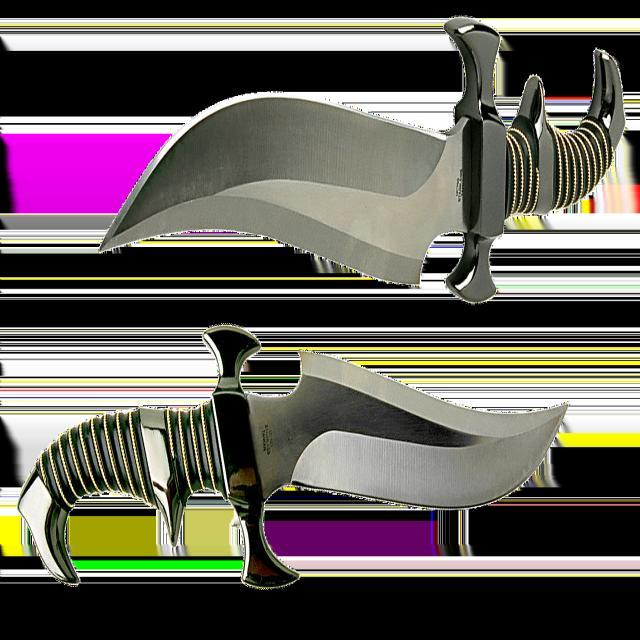Knife: (101, 18, 625, 302), (20, 326, 566, 588)
